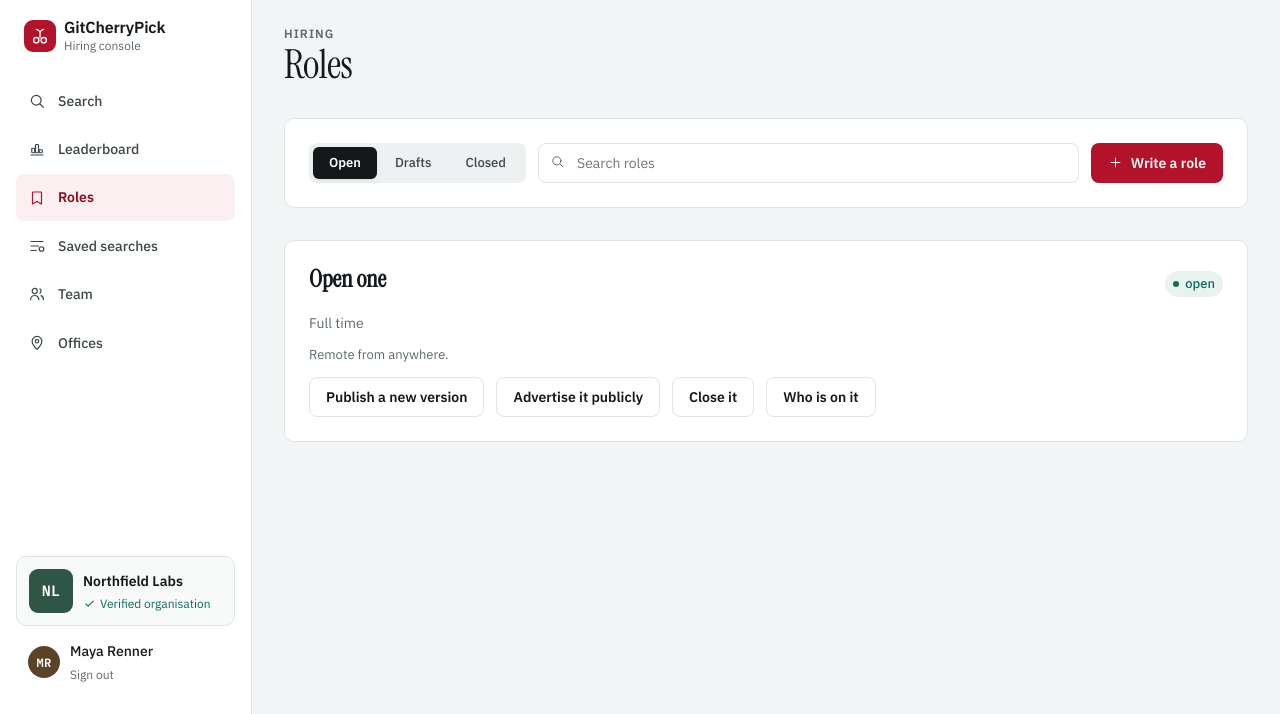
Test: the app renders › renders the people on a role, with the contact step and its acknowledgement
The image size is (1280, 714).
Step 1. Click the button "Who is on it" → (821, 397), box left=766, top=377, right=876, bottom=417
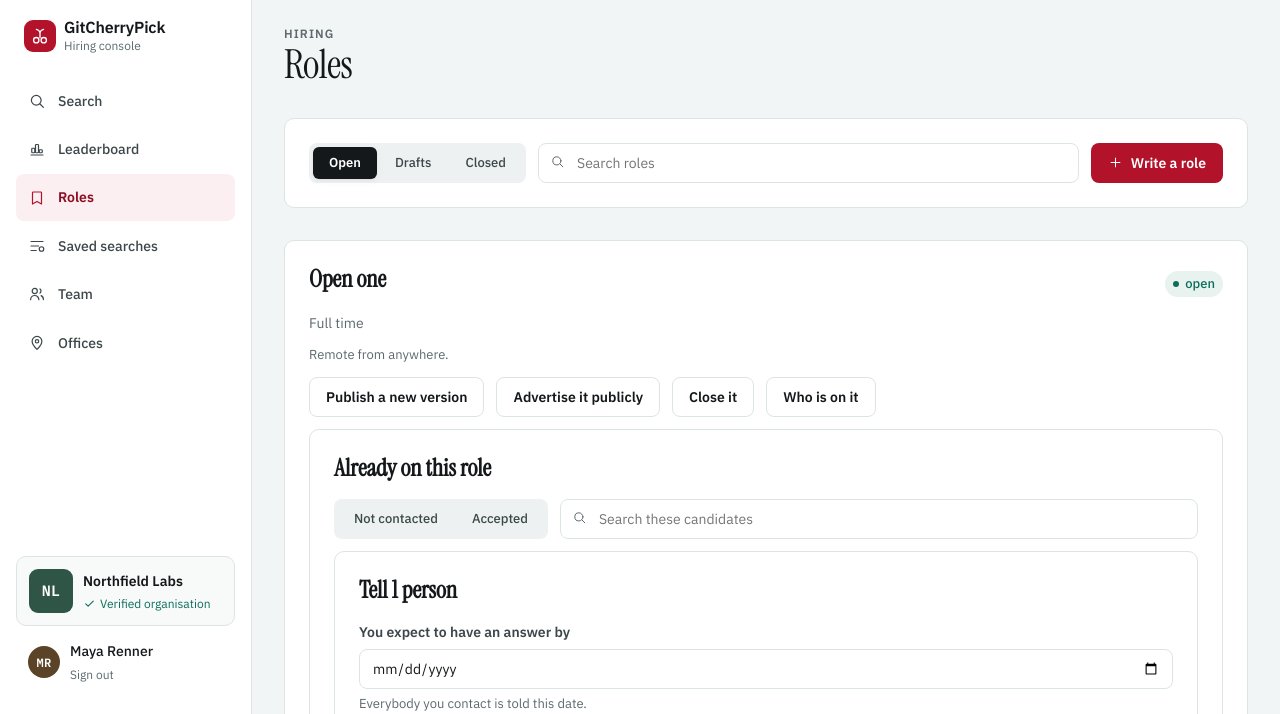
Step 2. Type "2026-12-01" into the date field labelled "You expect to have an answer by" → (766, 669), box left=359, top=649, right=1173, bottom=689
(page scrolled)
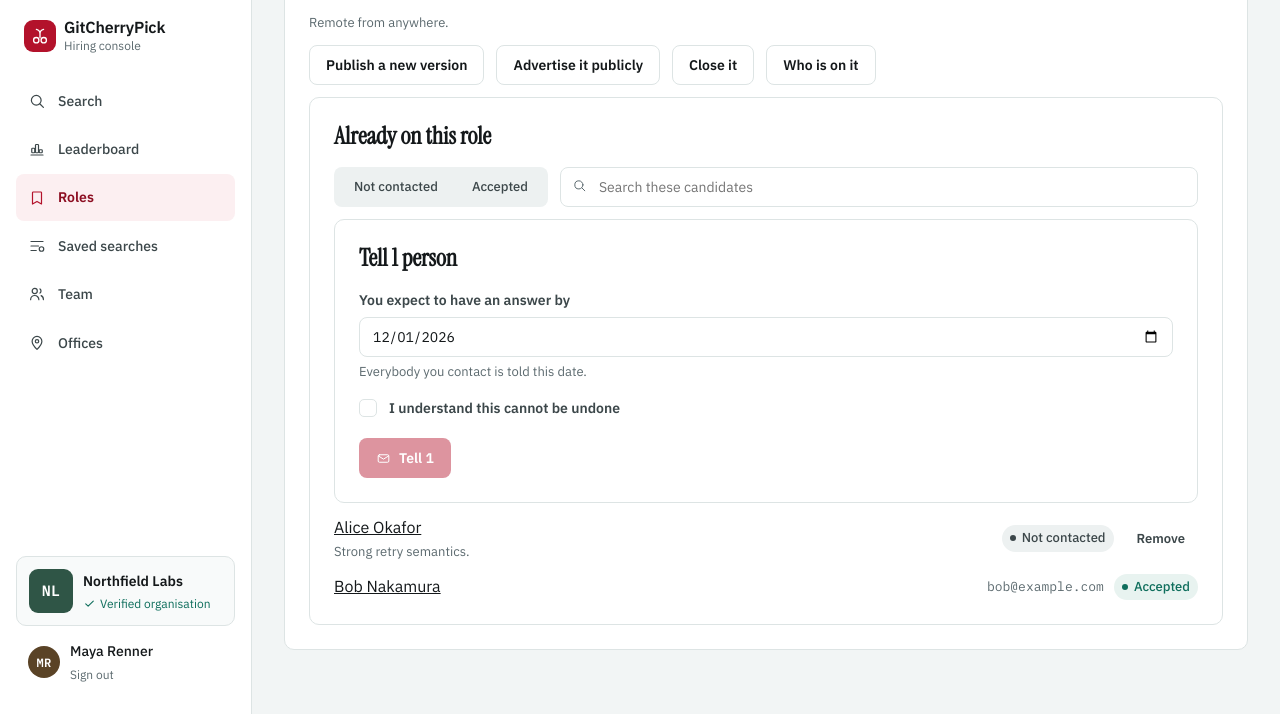
Step 3. Click the checkbox labelled "I understand this cannot be undone" → (368, 408), box left=359, top=399, right=377, bottom=417
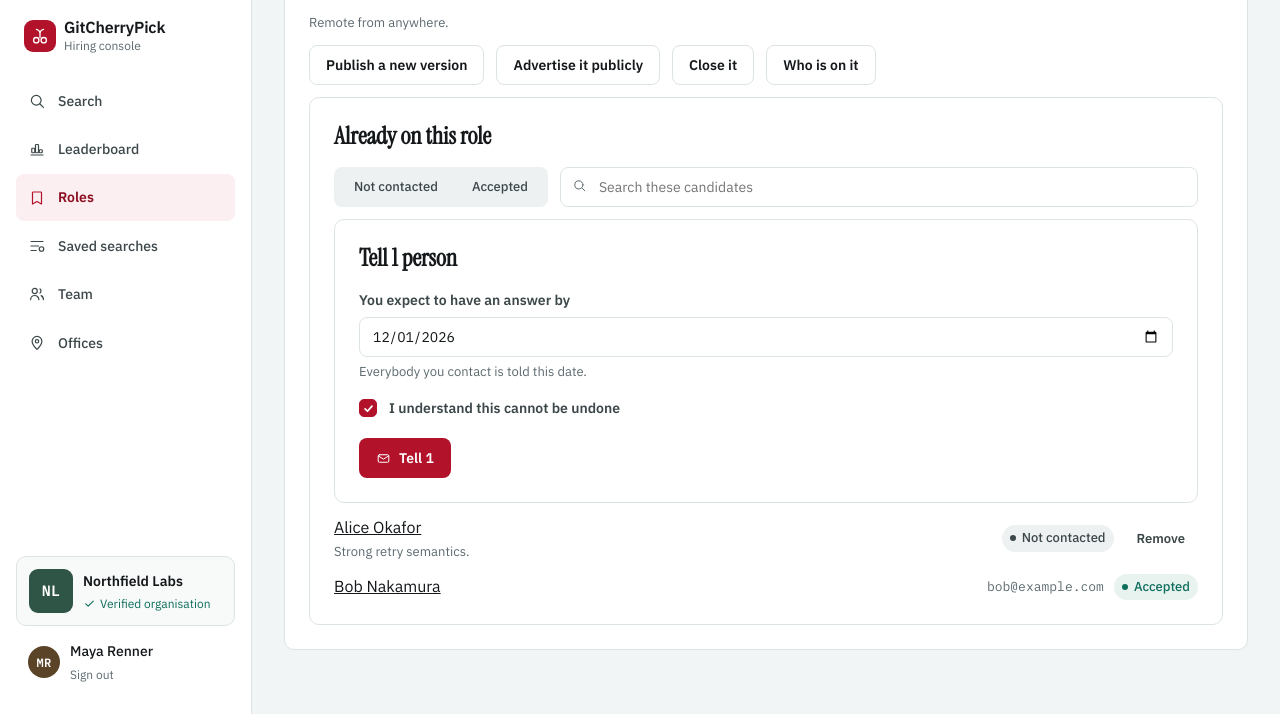
Check: the button "Tell 1" is enabled, box left=359, top=438, right=451, bottom=478
